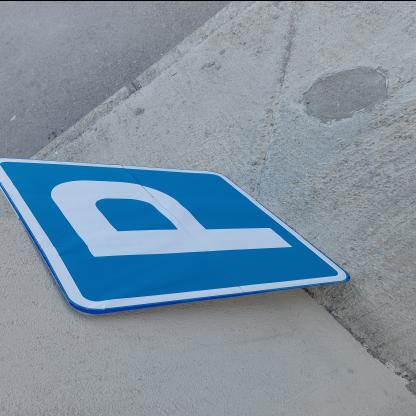Parking-Sign: (1, 158, 362, 318)
